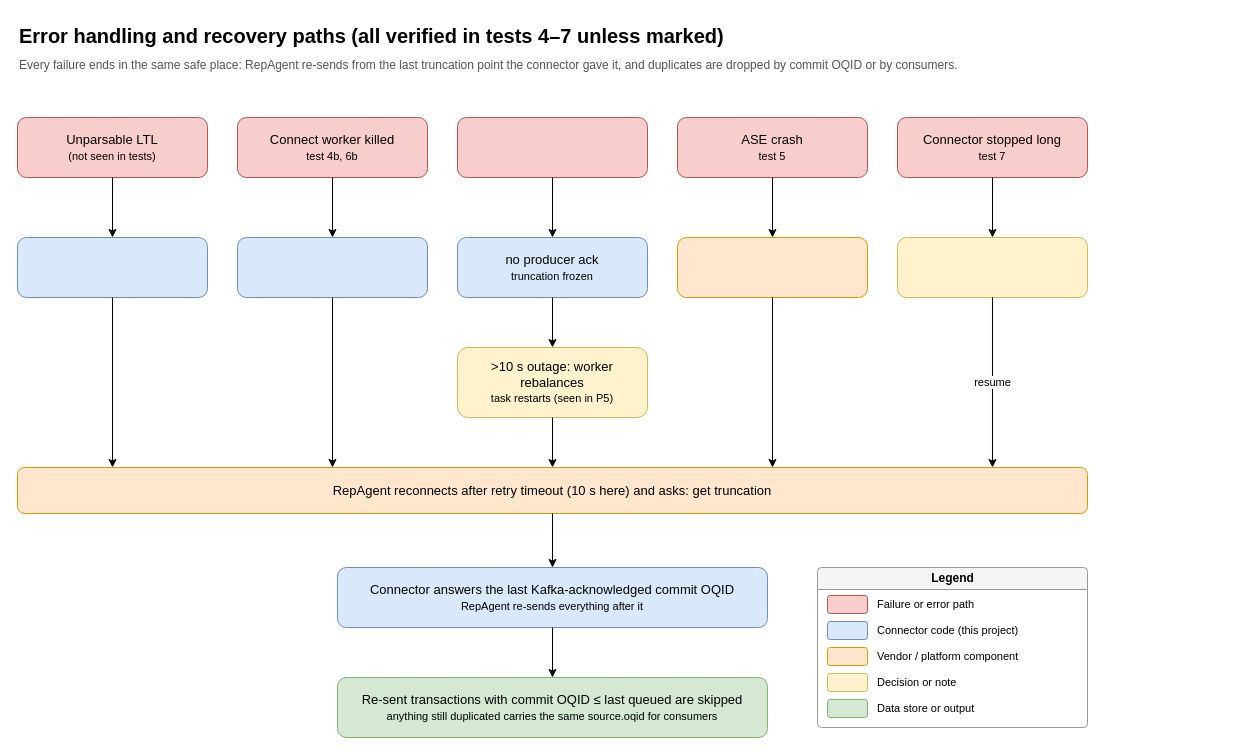
Image size: 1235x755. Some labels were removed from this diagram. Here are the shapes that lost their labels. From the top down, the centre of each, then its label:
At point (552, 147): "Kafka unreachable test P5 (44 s pause)".
At point (112, 267): "drop TDS connection never acknowledge".
At point (332, 267): "socket closes offsets: last full txn".
At point (772, 267): "ASE recovery RepAgent auto start".
At point (992, 267): "log grows threshold alert at 75% free".
